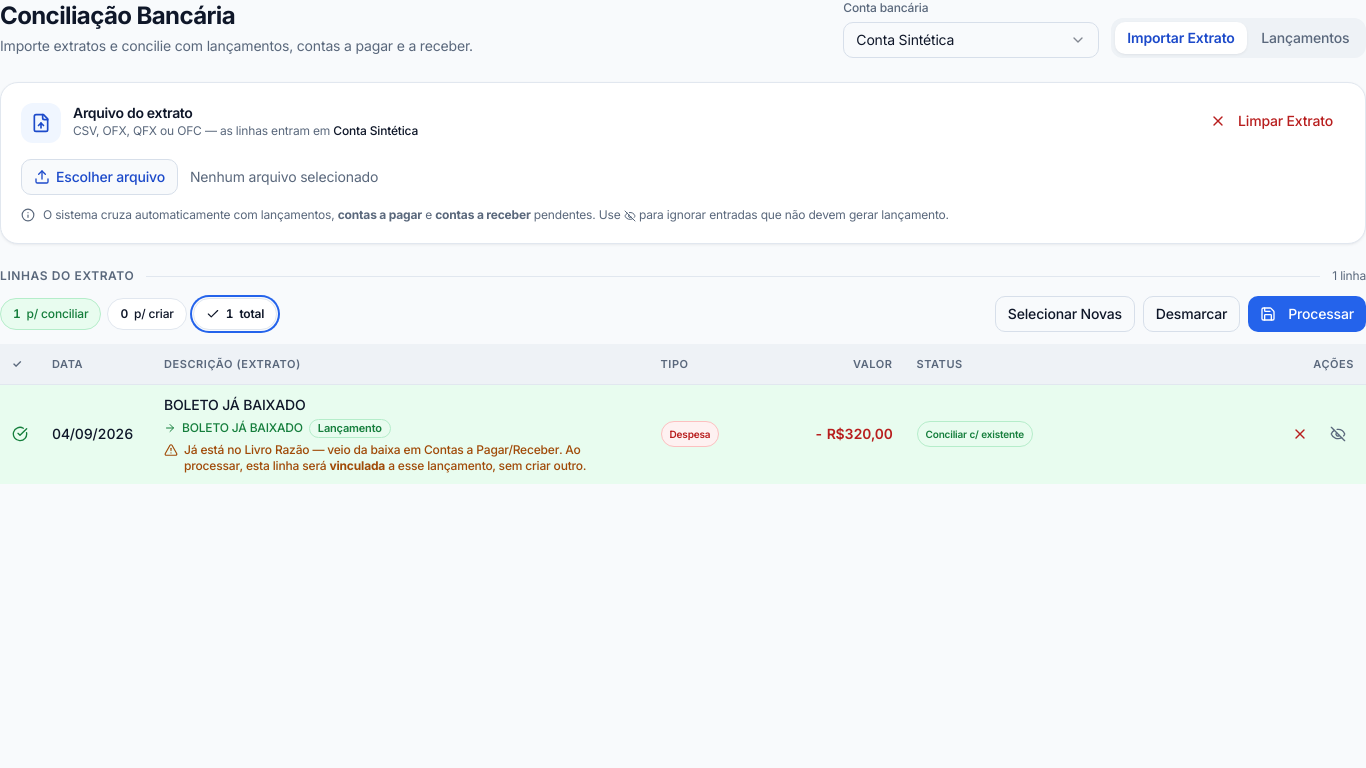
Test: Conciliação Bancária — visão Importar (rascunho restaurado) › Processar com baixa já no razão abre a confirmação antes de qualquer gravação
Step 1. Click the button "Processar" → click(1307, 314), box x1=1248 y1=296 x2=1365 y2=332
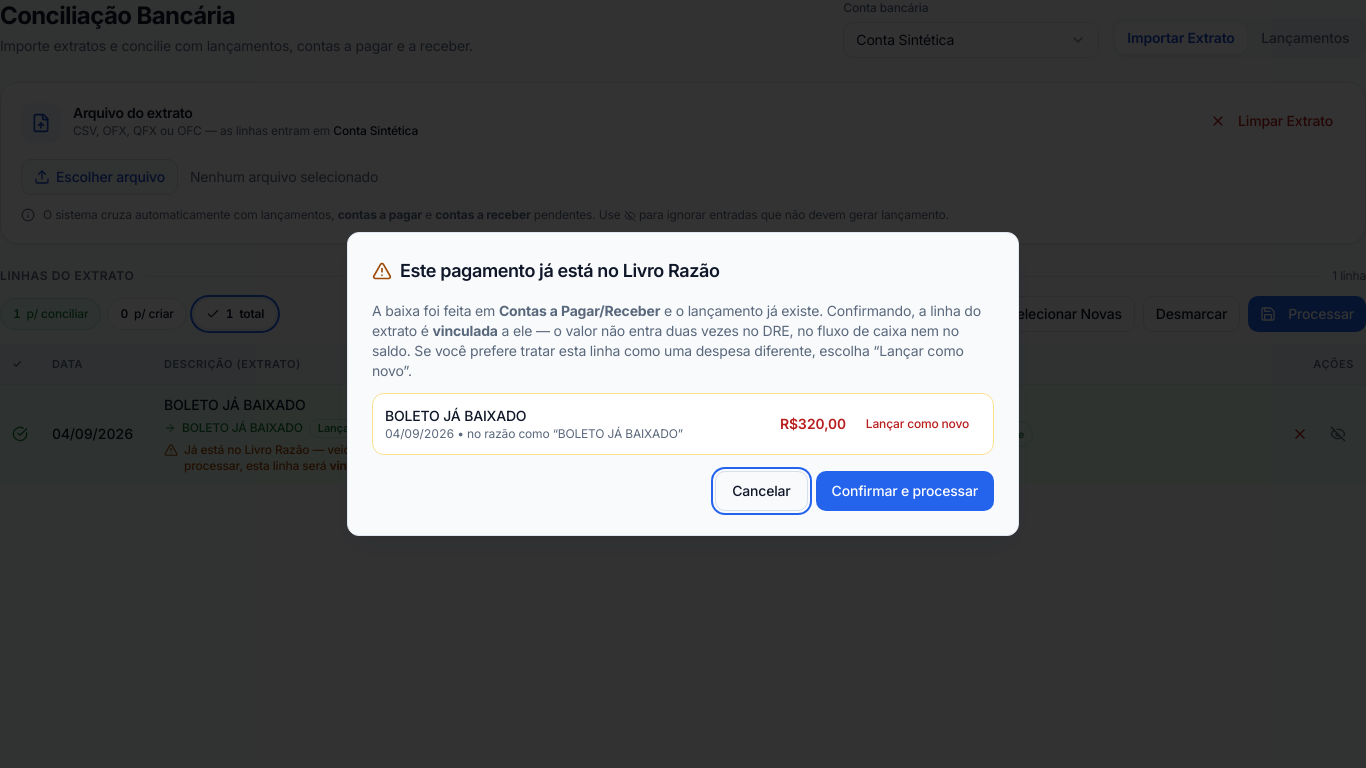
Now the dialog shows "Este pagamento já está no Livro Razão", box x1=400 y1=260 x2=720 y2=281
Now the button "Lançar como novo" is shown, box x1=854 y1=408 x2=981 y2=440
Now the button "Confirmar e processar" is shown, box x1=816 y1=471 x2=994 y2=511
Step 2. Click the button "Cancelar" → click(761, 491), box x1=715 y1=471 x2=808 y2=511
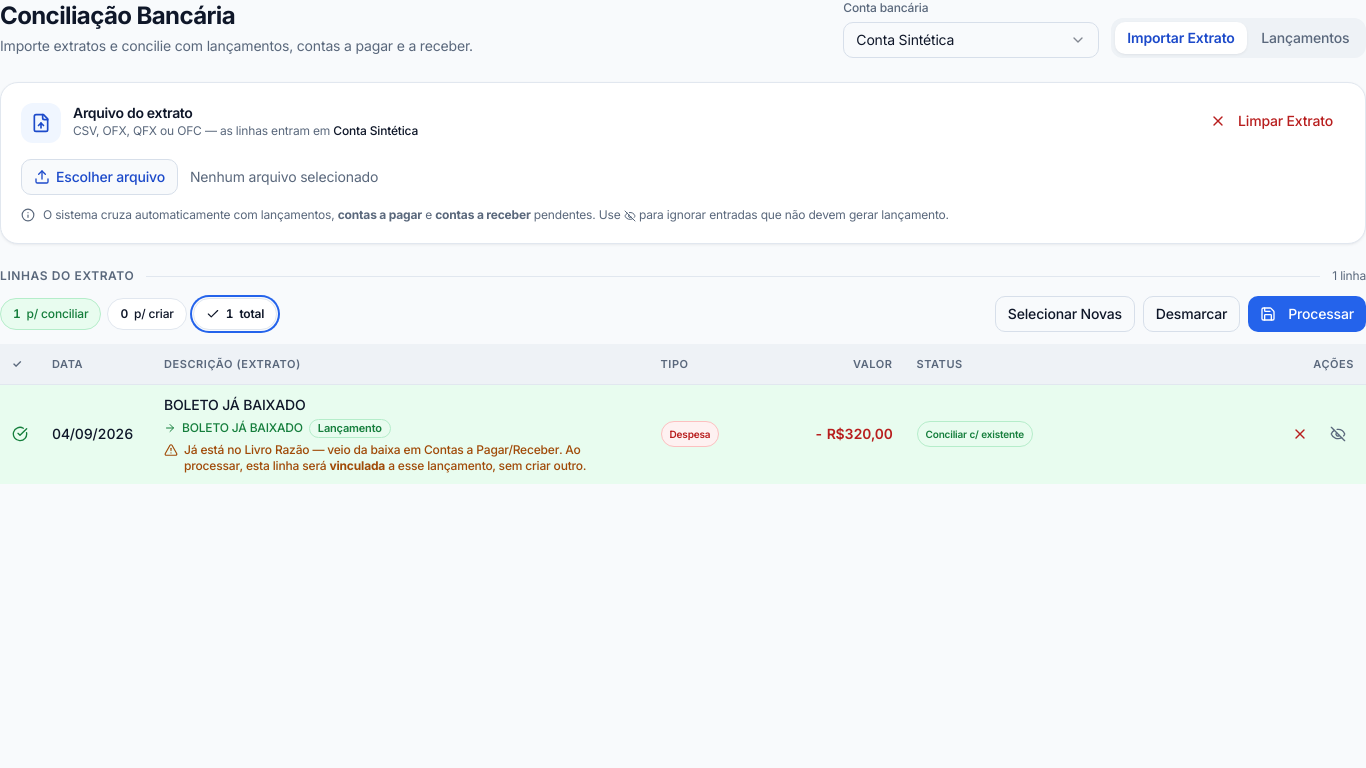
Now the dialog is gone
